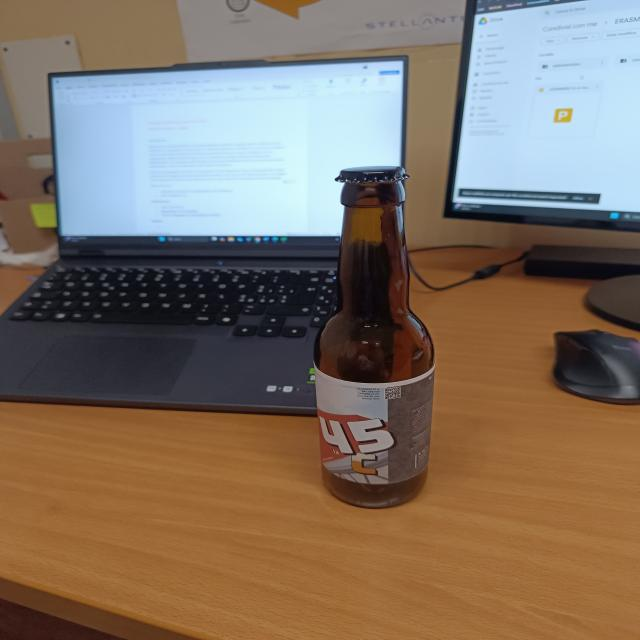Bottle: (315, 163, 436, 510)
Cap: (326, 165, 418, 185)
Label: (315, 375, 429, 481)
